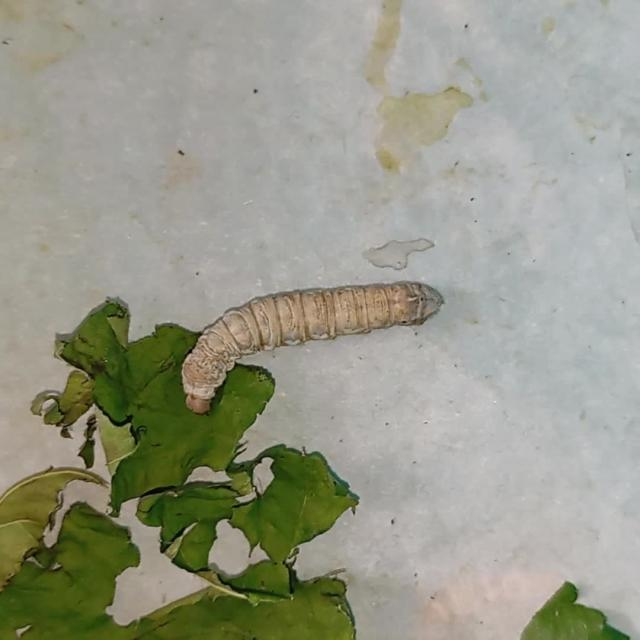Grasserie: (172, 269, 450, 415)
